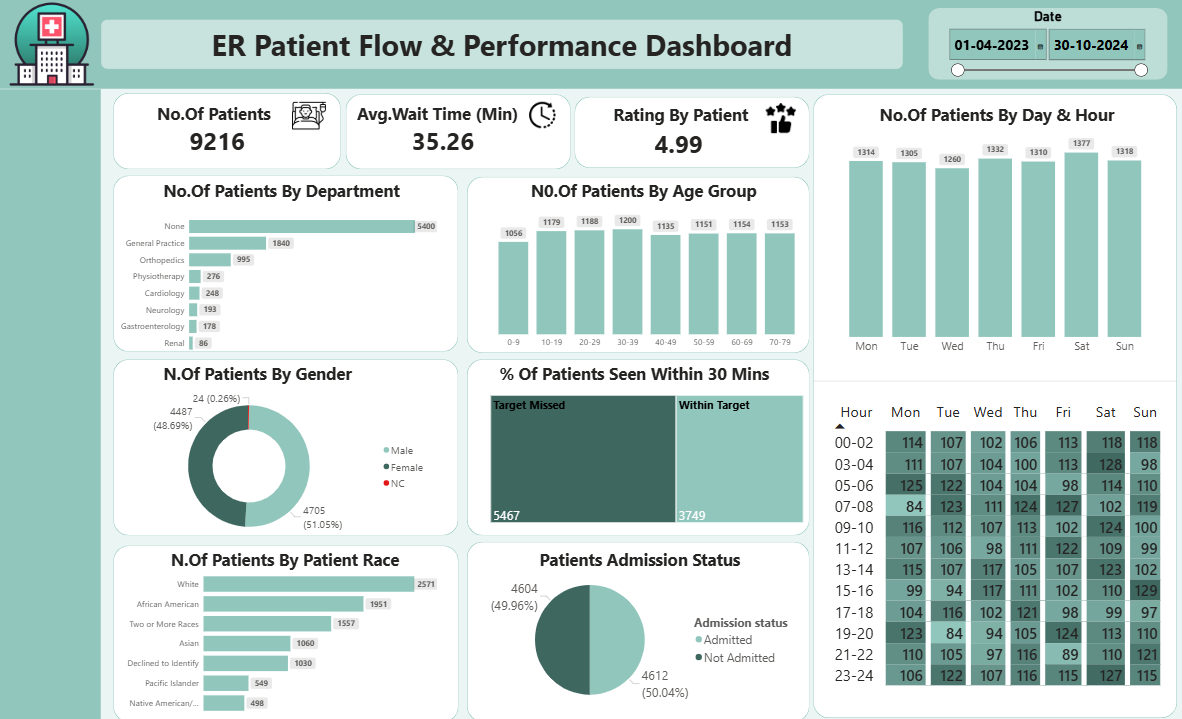

The dashboard page shown, as its layout file describes it:
{"tool":"powerbi","page":{"name":"Page 1","canvas":[2300,1400],"ordinal":0},"visuals":[{"type":"shape","box":[0,0,2300,175.6],"z":0},{"type":"shape","box":[0,176.6,200.8,1223.9],"z":1000},{"type":"image","box":[12.2,0,187.8,178],"z":2000},{"type":"textbox","box":[200.8,41.1,1552.9,96.8],"z":3000},{"type":"shape","box":[1802.4,19.5,463.4,139],"z":4000},{"type":"slicer","title":"Date","fields":{"Values":["Hospital ER_Data.Patient Admission Date"]},"box":[1831.7,19.5,404.9,139],"z":5000},{"type":"shape","box":[224.9,183.8,440.2,147.5],"z":6000},{"type":"shape","box":[674.8,186.2,435.4,145.1],"z":7000},{"type":"shape","box":[1117.5,191.1,454.7,137.9],"z":8000},{"type":"cardVisual","fields":{"Data":["Count(Hospital ER_Data.Patient Id)"]},"box":[343.5,205.6,179,137.9],"z":9000},{"type":"textbox","box":[304.8,195.9,270.9,87.1],"z":10000},{"type":"shape","box":[224.9,343.5,667.6,341.1],"z":11000},{"type":"cardVisual","fields":{"Data":["Avg(Hospital ER_Data.Patient Waittime)"]},"box":[774,215.3,234.6,118.5],"z":12000},{"type":"textbox","box":[317.1,346.3,480.5,85.4],"z":13000},{"type":"cardVisual","fields":{"Data":["Avg(Hospital ER_Data.Patient Satisfaction Score)"]},"box":[1243.3,224.9,200.8,108.8],"z":14000},{"type":"textbox","box":[1187.8,197.6,312.2,82.9],"z":15000},{"type":"clusteredBarChart","fields":{"Y":["CountNonNull(Hospital ER_Data.Patient Id)"],"Category":["Hospital ER_Data.Department Referral"]},"box":[224.9,403.9,631.3,295.1],"z":16000},{"type":"textbox","box":[691.8,195.9,336.2,87.1],"z":17000},{"type":"shape","box":[909.5,345.9,662.8,341.1],"z":18000},{"type":"columnChart","fields":{"Category":["Hospital ER_Data.Age group"],"Y":["CountNonNull(Hospital ER_Data.Patient Id)"]},"box":[936.1,408.8,643.4,278.2],"z":19000},{"type":"shape","box":[224.9,699,667.6,341.1],"z":20000},{"type":"donutChart","fields":{"Category":["Hospital ER_Data.Patient Gender"],"Y":["CountNonNull(Hospital ER_Data.Patient Id)"]},"box":[224.4,743.9,614.6,322],"z":21000},{"type":"shape","box":[909.5,1052.2,662.8,348.3],"z":22000},{"type":"shape","box":[909.5,699,662.8,341.1],"z":23000},{"type":"treemap","fields":{"Group":["Hospital ER_Data.Patient seen <30min"],"Values":["CountNonNull(Hospital ER_Data.Patient Id)"]},"box":[951.2,763.4,614.6,256.1],"z":24000},{"type":"pieChart","fields":{"Category":["Hospital ER_Data.Admission status"],"Y":["CountNonNull(Hospital ER_Data.Patient Id)"]},"box":[941.5,1090.2,604.9,302.4],"z":25000},{"type":"shape","box":[1579.5,186.2,703.9,1207],"z":26000},{"type":"pivotTable","fields":{"Rows":["Hospital ER_Data.Waittime Interval"],"Columns":["Hospital ER_Data.Day name"],"Values":["Count(Hospital ER_Data.Patient Id)"]},"box":[1609.8,773.2,663.4,626.8],"z":27000},{"type":"columnChart","fields":{"Category":["Hospital ER_Data.Day name"],"Y":["CountNonNull(Hospital ER_Data.Patient Id)"]},"box":[1610.9,258.8,643.4,440.2],"z":28000},{"type":"shape","box":[1579.5,595,703.9,292.7],"z":29000},{"type":"shape","box":[224.4,1058.5,668.3,341.5],"z":30000},{"type":"clusteredBarChart","fields":{"Y":["CountNonNull(Hospital ER_Data.Patient Id)"],"Category":["Hospital ER_Data.Patient Race"]},"box":[229.3,1090.2,626.8,309.8],"z":31000},{"type":"textbox","box":[1026.8,346.3,463.4,63.4],"z":32000},{"type":"textbox","box":[1702.4,197.6,487.8,63.4],"z":33000},{"type":"textbox","box":[317.1,700,487.8,63.4],"z":34000},{"type":"textbox","box":[968.3,700,551.2,63.4],"z":35000},{"type":"textbox","box":[331.7,1058.5,487.8,63.4],"z":36000},{"type":"textbox","box":[1043.9,1058.5,419.5,63.4],"z":37000},{"type":"image","box":[570.7,165.9,65.9,122],"z":38000},{"type":"image","box":[1026.8,200,53.7,51.2],"z":39000},{"type":"image","box":[1475.6,202.4,82.9,58.5],"z":40000}]}

Visuals, with their boxes in screenshot pixels (x1, y1, x2, y2), scaled from the page's 2300x1400 canvas onto the 1182x719 screenshot:
shape: bbox=[0, 0, 1181, 90]
shape: bbox=[0, 91, 103, 718]
image: bbox=[6, 0, 103, 91]
textbox: bbox=[103, 21, 901, 71]
shape: bbox=[926, 10, 1164, 81]
"Date" slicer: bbox=[941, 10, 1149, 81]
shape: bbox=[116, 94, 342, 170]
shape: bbox=[347, 96, 571, 170]
shape: bbox=[574, 98, 808, 169]
cardVisual - Count(Hospital ER_Data.Patient Id): bbox=[177, 106, 269, 176]
textbox: bbox=[157, 101, 296, 145]
shape: bbox=[116, 176, 459, 352]
cardVisual - Avg(Hospital ER_Data.Patient Waittime): bbox=[398, 111, 518, 171]
textbox: bbox=[163, 178, 410, 222]
cardVisual - Avg(Hospital ER_Data.Patient Satisfaction Score): bbox=[639, 116, 742, 171]
textbox: bbox=[610, 101, 771, 144]
clusteredBarChart - CountNonNull(Hospital ER_Data.Patient Id) x Hospital ER_Data.Department Referral: bbox=[116, 207, 440, 359]
textbox: bbox=[356, 101, 528, 145]
shape: bbox=[467, 178, 808, 353]
columnChart - Hospital ER_Data.Age group x CountNonNull(Hospital ER_Data.Patient Id): bbox=[481, 210, 812, 353]
shape: bbox=[116, 359, 459, 534]
donutChart - Hospital ER_Data.Patient Gender x CountNonNull(Hospital ER_Data.Patient Id): bbox=[115, 382, 431, 547]
shape: bbox=[467, 540, 808, 718]
shape: bbox=[467, 359, 808, 534]
treemap - Hospital ER_Data.Patient seen <30min x CountNonNull(Hospital ER_Data.Patient Id): bbox=[489, 392, 805, 524]
pieChart - Hospital ER_Data.Admission status x CountNonNull(Hospital ER_Data.Patient Id): bbox=[484, 560, 795, 715]
shape: bbox=[812, 96, 1173, 716]
pivotTable - Hospital ER_Data.Waittime Interval x Hospital ER_Data.Day name: bbox=[827, 397, 1168, 718]
columnChart - Hospital ER_Data.Day name x CountNonNull(Hospital ER_Data.Patient Id): bbox=[828, 133, 1159, 359]
shape: bbox=[812, 306, 1173, 456]
shape: bbox=[115, 544, 459, 718]
clusteredBarChart - CountNonNull(Hospital ER_Data.Patient Id) x Hospital ER_Data.Patient Race: bbox=[118, 560, 440, 718]
textbox: bbox=[528, 178, 766, 210]
textbox: bbox=[875, 101, 1126, 134]
textbox: bbox=[163, 360, 414, 392]
textbox: bbox=[498, 360, 781, 392]
textbox: bbox=[170, 544, 421, 576]
textbox: bbox=[536, 544, 752, 576]
image: bbox=[293, 85, 327, 148]
image: bbox=[528, 103, 555, 129]
image: bbox=[758, 104, 801, 134]
